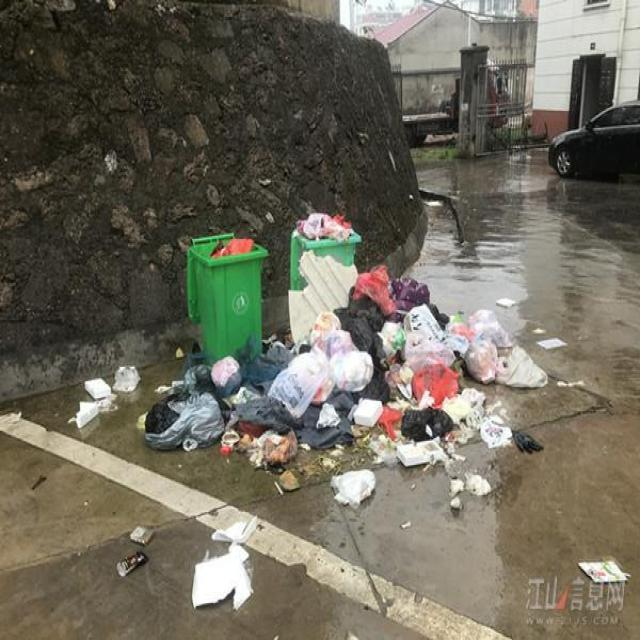garbage: (72, 260, 566, 608)
overflow: (185, 230, 266, 363), (289, 211, 361, 290)
